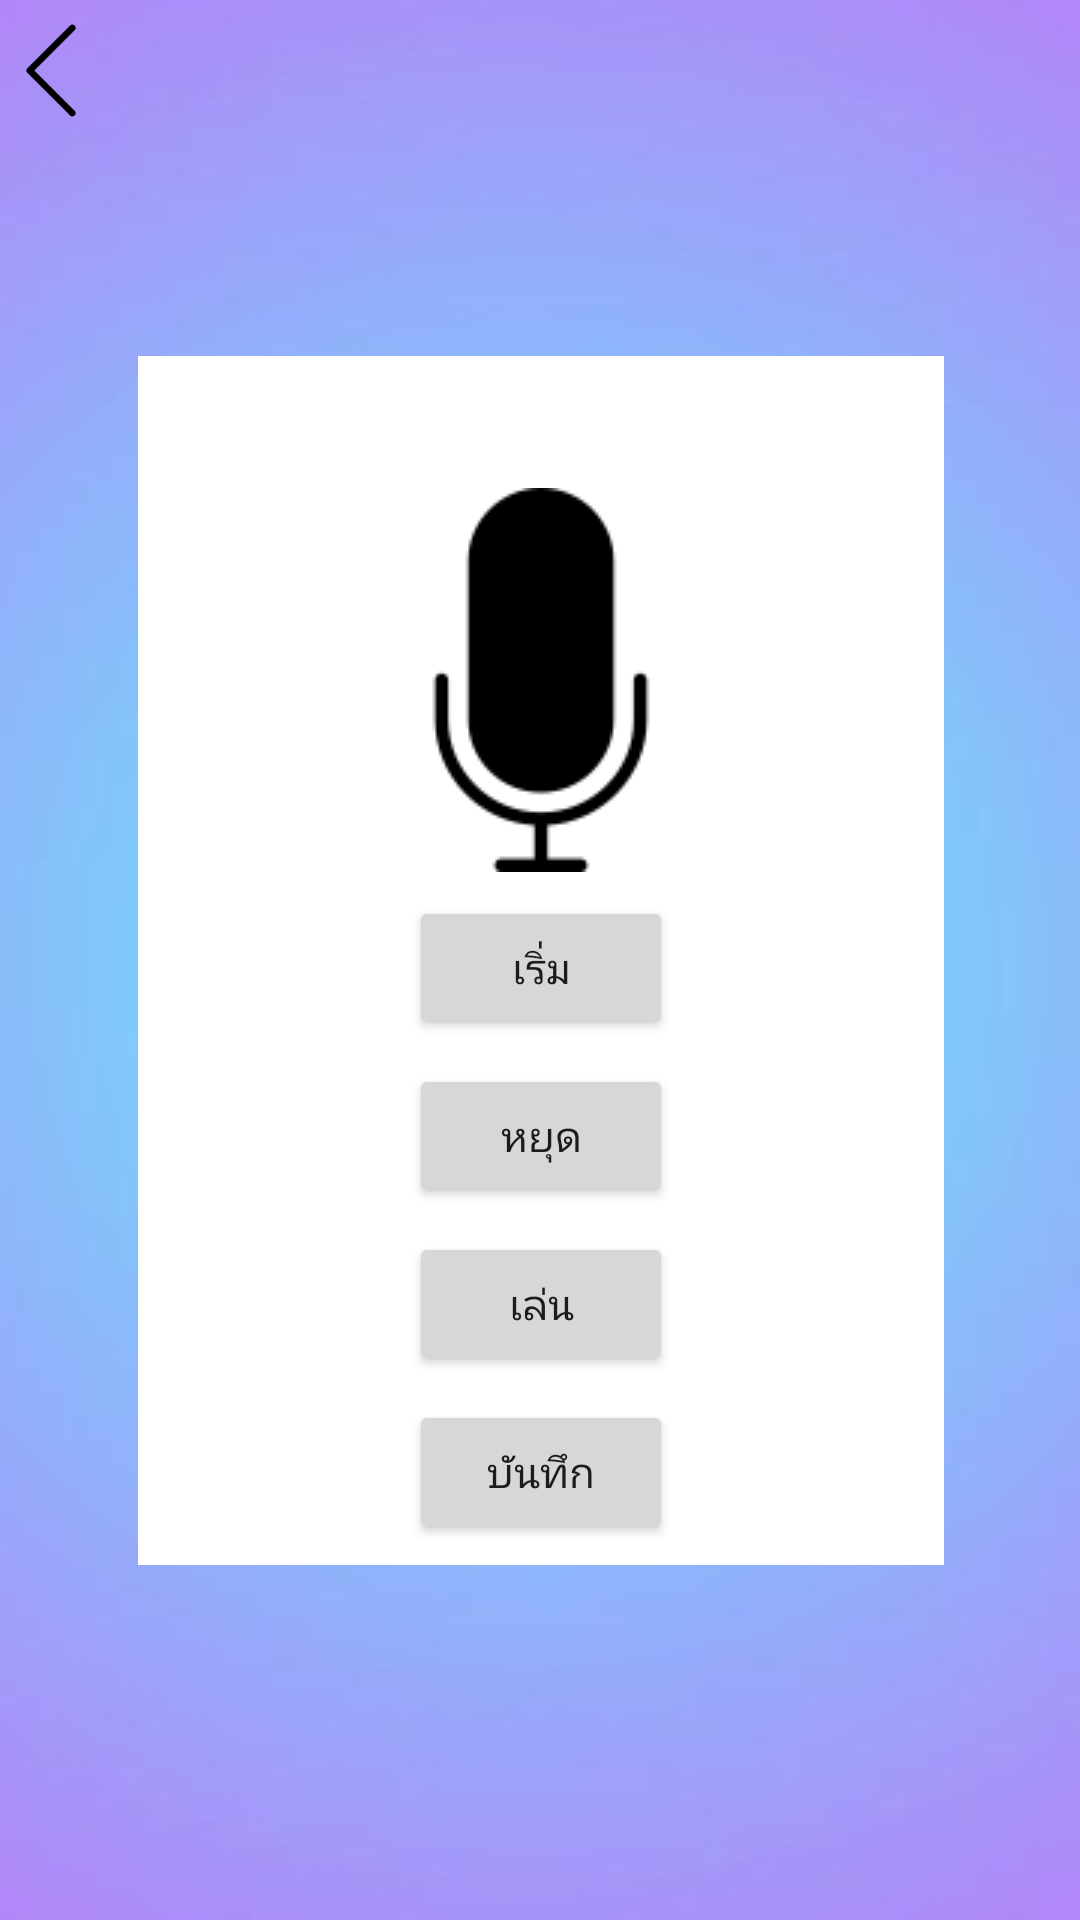

Where icons sit on this 1080*1920 app screen, as (x1=x1, y1=y1, x2=x2, y2=y2):
arrow: (x1=26, y1=24, x2=76, y2=117)
